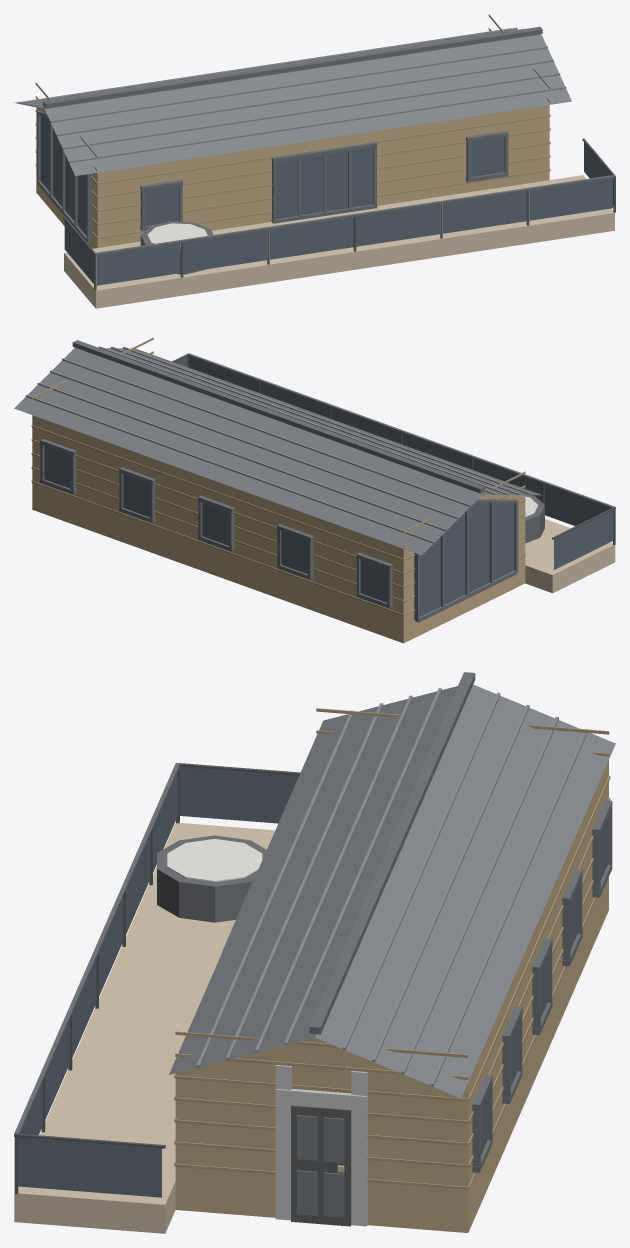
3 views of the same model, one above another, from view 1: azimuth 30°, elevation 25°; view 2: azimuth 150°, elevation 25°; view 3: azimuth 270°, elevation 25° (orthographic). The views are drawn at different scales.
Visible parts, largest first — view 1: slate, door_wood, larch, slate_dk, slate_lt, door_wood_p, window_glass_002, window_glass_003, window_glass_004, window_glass_005, window_glass_001, window_glass_006 (+12 smaller); view 2: slate, door_wood, slate_dk, slate_lt, window_glass_015, door_wood_p, larch, window_glass_007, window_glass_001, window_glass_016, window_glass_018, window_glass_019 (+9 smaller); view 3: slate, door_wood, larch, slate_dk, slate_lt, door_wood_p, window_glass_008, stone_band, window_glass_007, band_dark, door_dark_p, door_dark (+7 smaller).
Boxes of the visible parts, left/top/right/bottom form: slate: left=14, top=28, right=571, bottom=175; door_wood: left=36, top=105, right=549, bottom=248; larch: left=64, top=175, right=614, bottom=308; slate_dk: left=37, top=26, right=614, bottom=255; slate_lt: left=19, top=27, right=566, bottom=162; door_wood_p: left=35, top=14, right=550, bottom=239; window_glass_002: left=183, top=230, right=266, bottom=272; window_glass_003: left=270, top=217, right=353, bottom=259; window_glass_004: left=356, top=204, right=439, bottom=246; window_glass_005: left=443, top=191, right=526, bottom=233; window_glass_001: left=97, top=243, right=180, bottom=285; window_glass_006: left=529, top=178, right=612, bottom=220; slate: left=14, top=347, right=542, bottom=555; door_wood: left=32, top=415, right=525, bottom=643; slate_dk: left=40, top=340, right=614, bottom=622; slate_lt: left=25, top=346, right=531, bottom=543; window_glass_015: left=420, top=503, right=514, bottom=616; door_wood_p: left=31, top=337, right=525, bottom=616; larch: left=525, top=519, right=615, bottom=593; window_glass_007: left=554, top=510, right=613, bottom=569; window_glass_001: left=544, top=485, right=610, bottom=525; window_glass_016: left=44, top=445, right=70, bottom=488; window_glass_018: left=202, top=502, right=228, bottom=545; window_glass_019: left=281, top=531, right=307, bottom=574; slate: left=169, top=684, right=615, bottom=1097; door_wood: left=175, top=760, right=608, bottom=1232; larch: left=14, top=823, right=275, bottom=1233; slate_dk: left=14, top=672, right=612, bottom=1172; slate_lt: left=196, top=688, right=587, bottom=1086; door_wood_p: left=174, top=708, right=610, bottom=1190; window_glass_008: left=18, top=1137, right=161, bottom=1197; stone_band: left=275, top=1065, right=367, bottom=1226; window_glass_007: left=179, top=766, right=298, bottom=823; band_dark: left=157, top=835, right=266, bottom=922; door_dark_p: left=297, top=1115, right=344, bottom=1217; door_dark: left=291, top=1105, right=351, bottom=1226.
Bounding box in the file's own units: 14.74 × 3.63 × 9.41.
